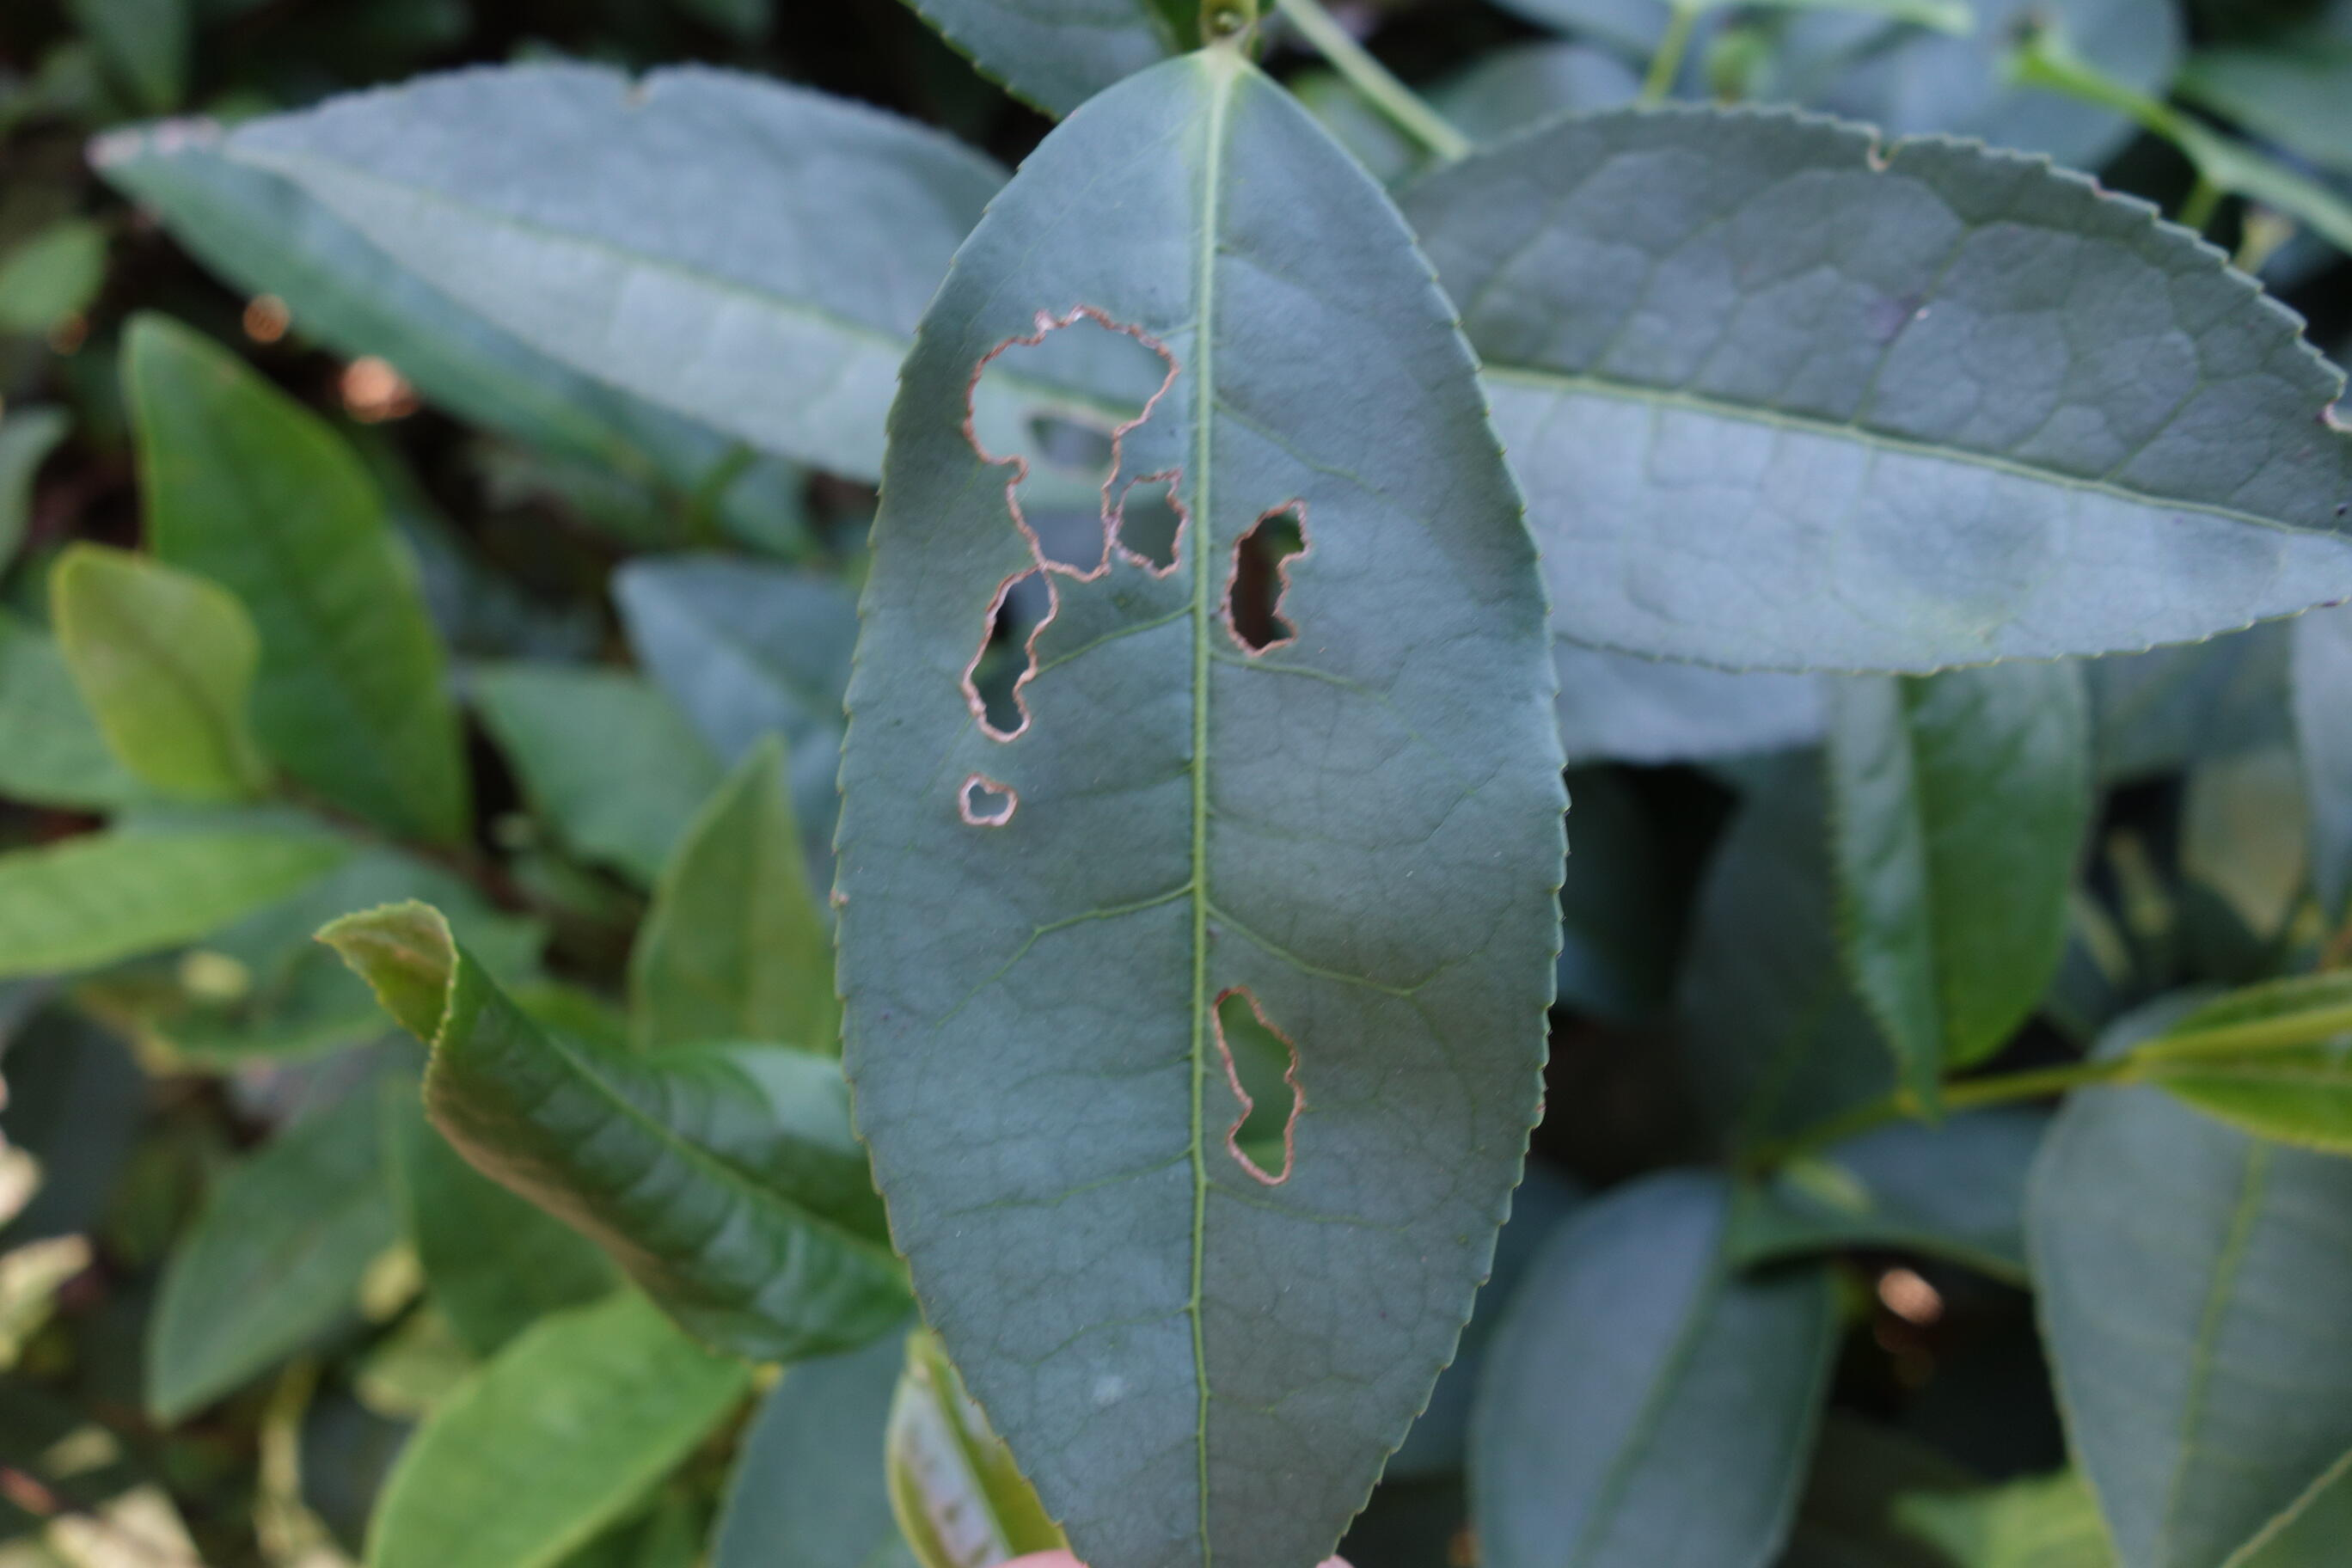chihuo_high: (829, 44, 1566, 1568)
